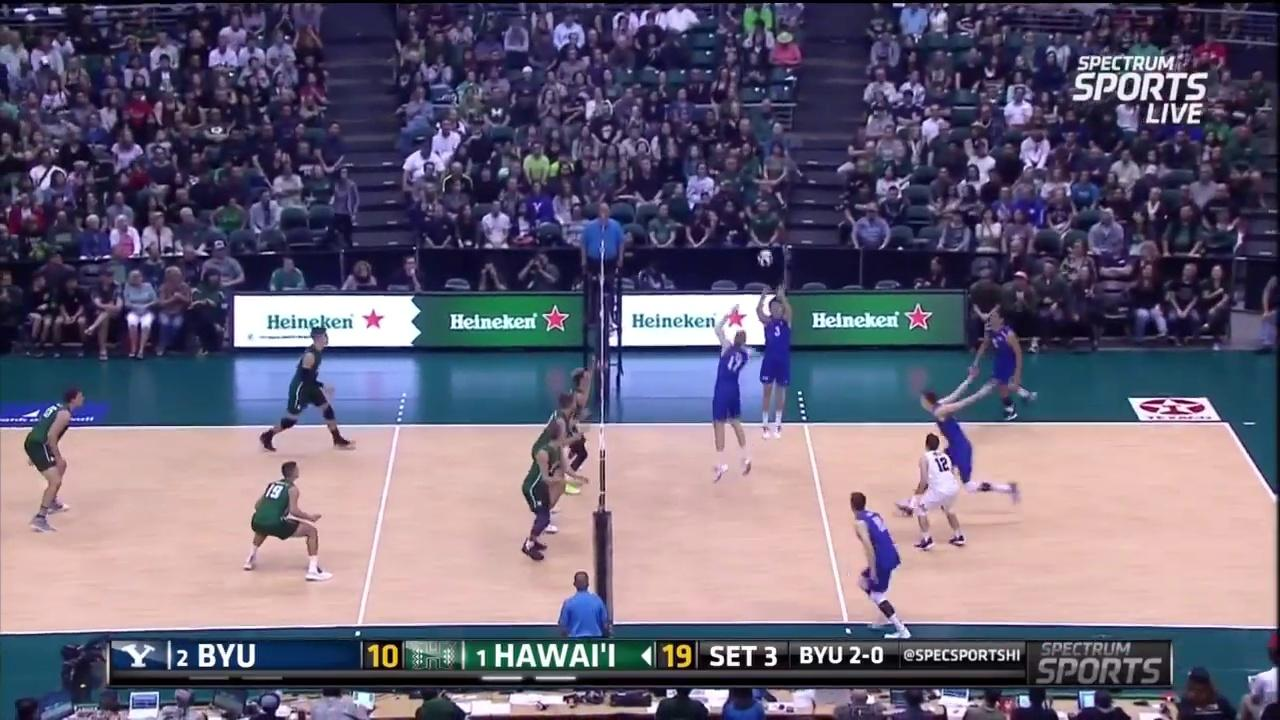player: (264, 325, 356, 451), (243, 458, 334, 583), (915, 386, 1010, 502), (710, 304, 760, 482), (16, 393, 80, 527), (843, 494, 906, 629), (971, 305, 1035, 427), (907, 436, 969, 550), (523, 424, 572, 562), (551, 364, 599, 497), (756, 290, 797, 434), (531, 394, 571, 536)
refree: (579, 201, 624, 318), (554, 568, 616, 637)
